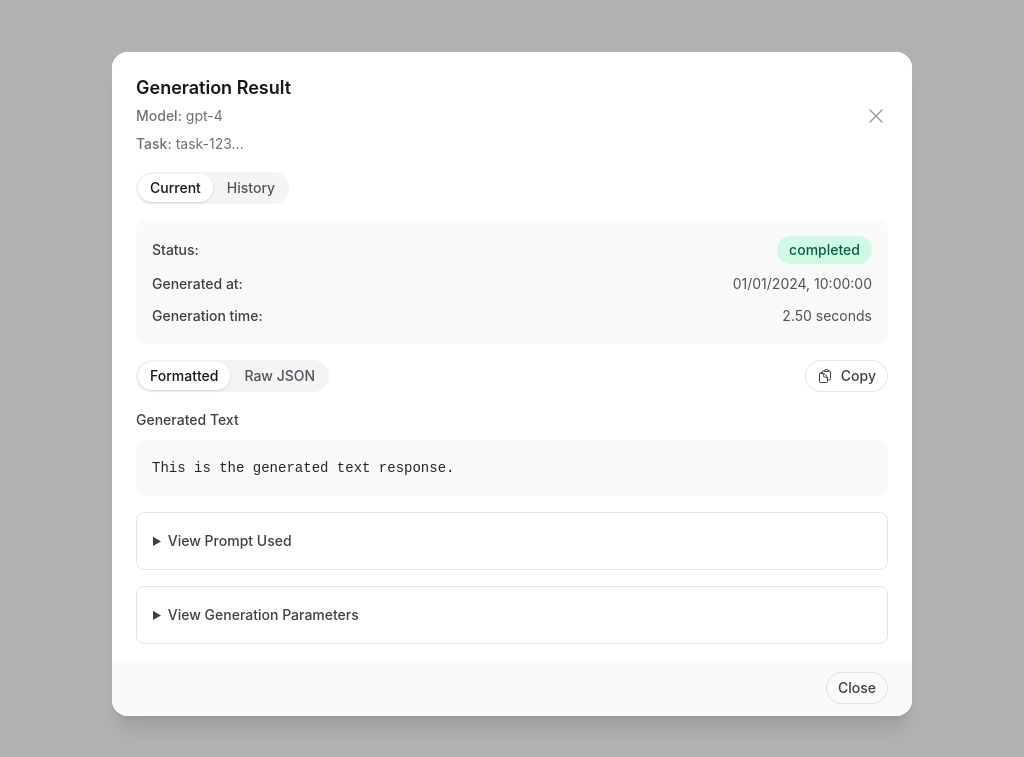
GenerationResultModal Component › parameters display › expands to show parameters JSON
The image size is (1024, 757).
Click the heading "View Generation Parameters" at (263, 614), box [168,606,359,623]
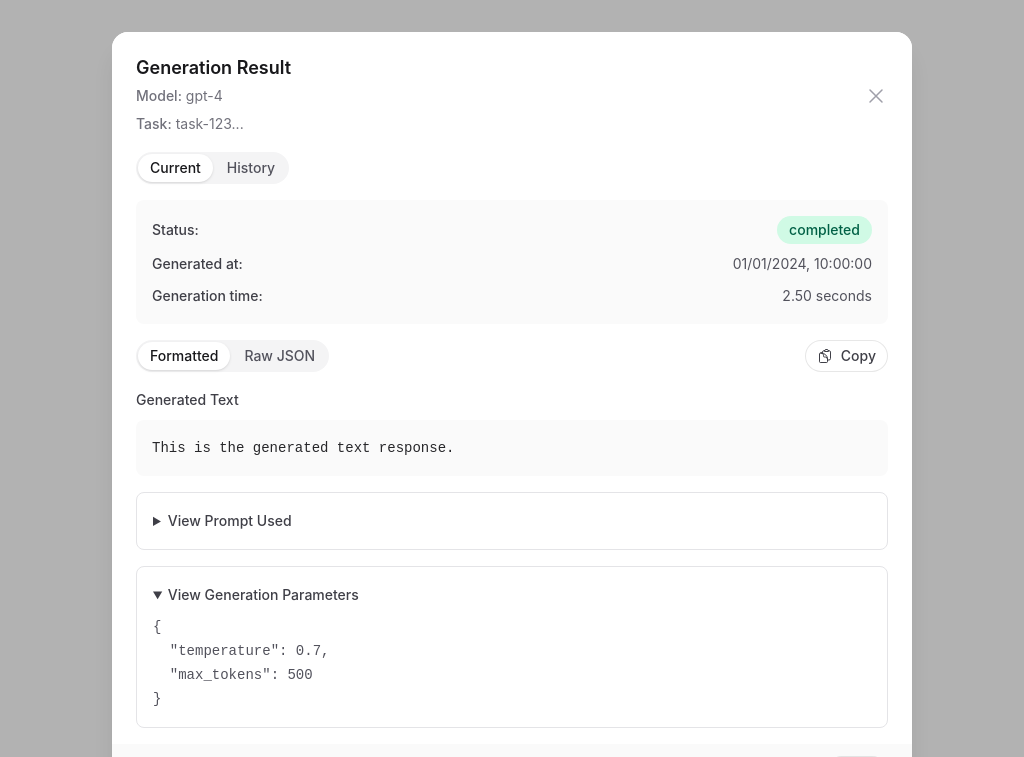
Now the text "{ \"temperature\": 0.7, \"max_tokens\": 500 }" is shown, box [153,619,330,707]
